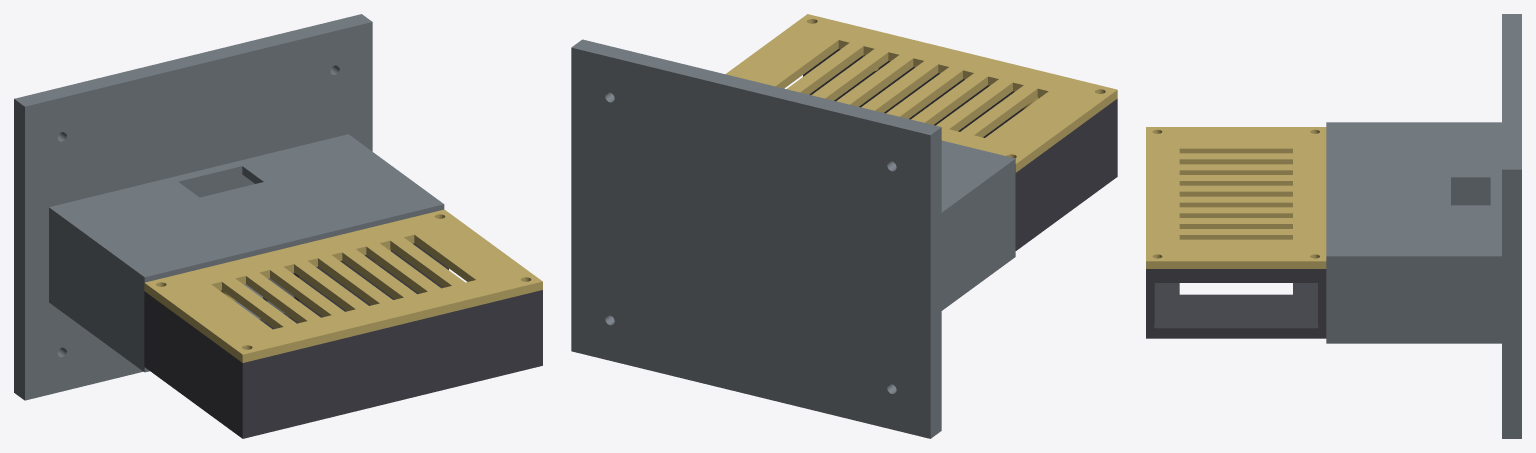
Rendered from montagem-ESTUDO.glb.
3 renders of one model, left to right at view 1: azimuth 30°, elevation 25°; view 2: azimuth 150°, elevation 25°; view 3: azimuth 270°, elevation 25°, orthographic. The views are drawn at different scales.
Parts seen in each view (by area): view 1: poste, tampa, frente; view 2: poste, tampa, frente; view 3: poste, tampa, frente.
Part boxes in pixels (x1,y1,x2,y2): poste: (14, 14, 444, 400); tampa: (144, 209, 542, 362); frente: (144, 243, 542, 438); poste: (571, 39, 1015, 438); tampa: (725, 14, 1117, 172); frente: (803, 49, 1117, 250); poste: (1326, 14, 1521, 438); tampa: (1146, 127, 1326, 268); frente: (1146, 269, 1326, 338).
Bounding box in the file's own units: 130 × 105 × 133.
